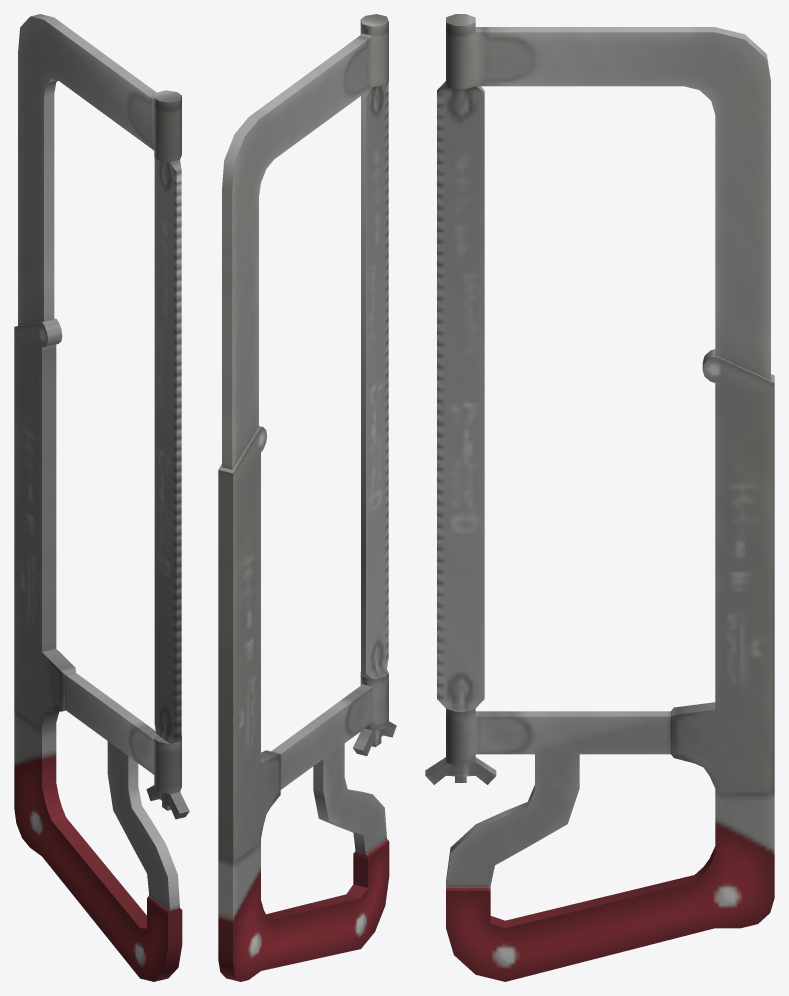
File: Hacksaw.fbx
3 renders of one model, left to right at view 1: azimuth 30°, elevation 25°; view 2: azimuth 150°, elevation 25°; view 3: azimuth 270°, elevation 25°, orthographic. The views are drawn at different scales.
Parts seen in each view (by area): view 1: Cube.001; view 2: Cube.001; view 3: Cube.001.
Part boxes in pixels (bbox=[...]): Cube.001: bbox=[14, 14, 189, 981]; Cube.001: bbox=[218, 14, 396, 981]; Cube.001: bbox=[425, 14, 774, 981].
Bounding box in the file's own units: 0.00768 × 0.285 × 0.0942.
